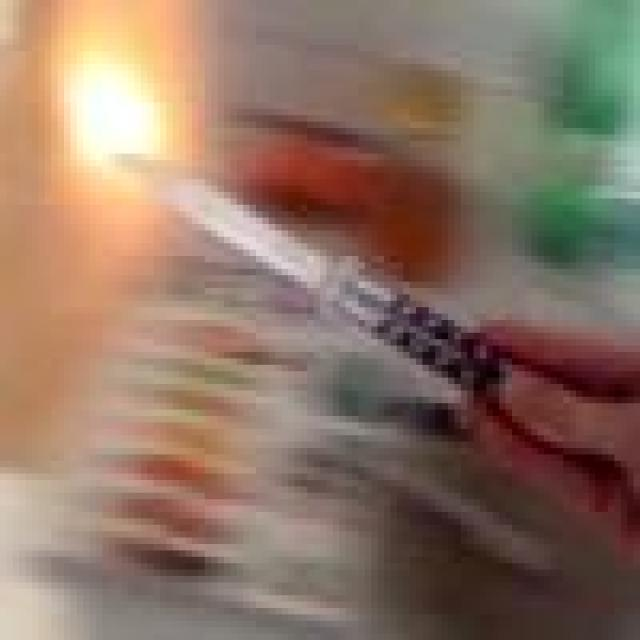Knife: (108, 154, 506, 390)
